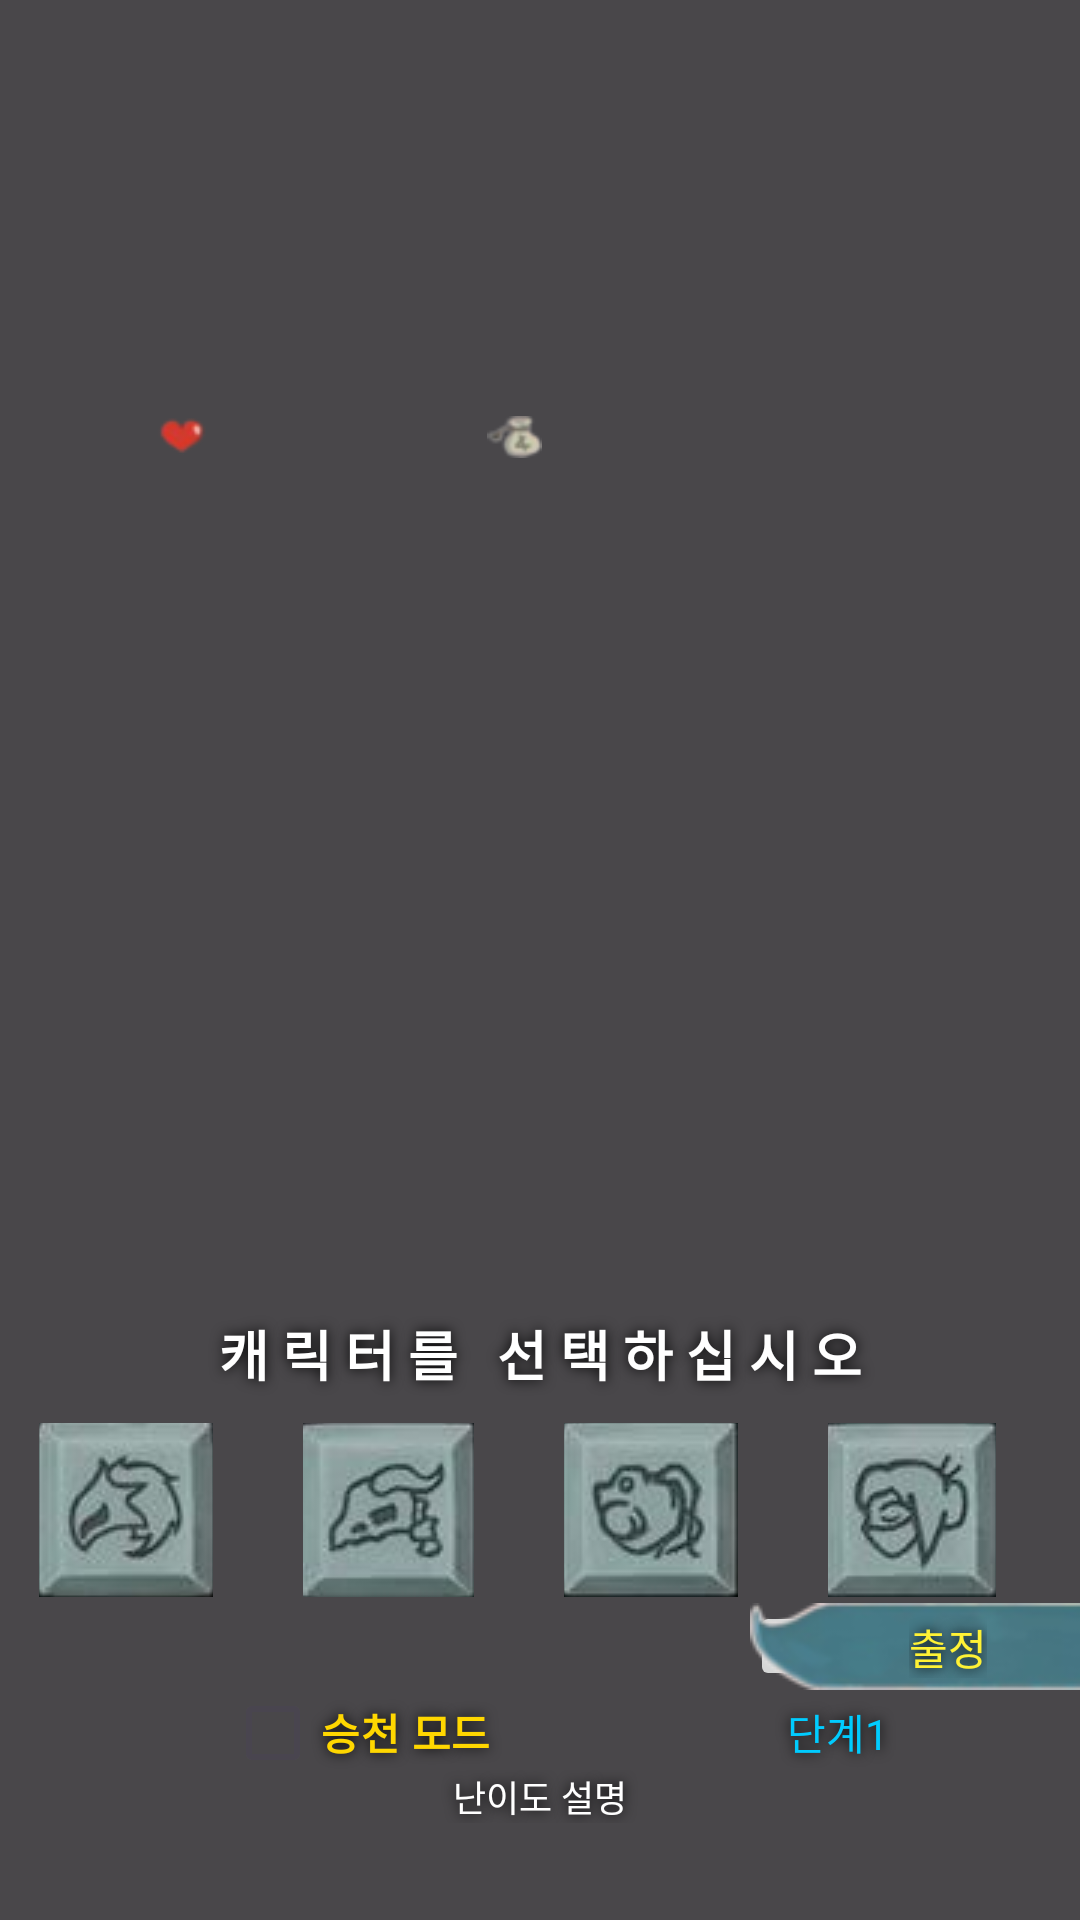

Where icons sit on this 1080x1920 app screen, as (x1, y1, x2, y2):
goldicon: (487, 416, 542, 458)
hpicon: (160, 420, 203, 452)
